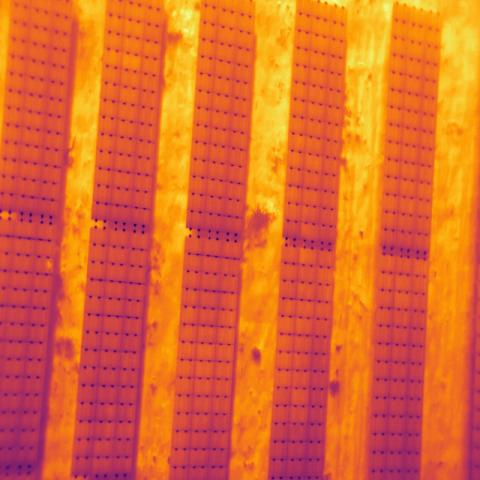fault: (299, 247, 319, 267)
